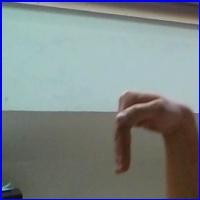del: (100, 84, 190, 180)
